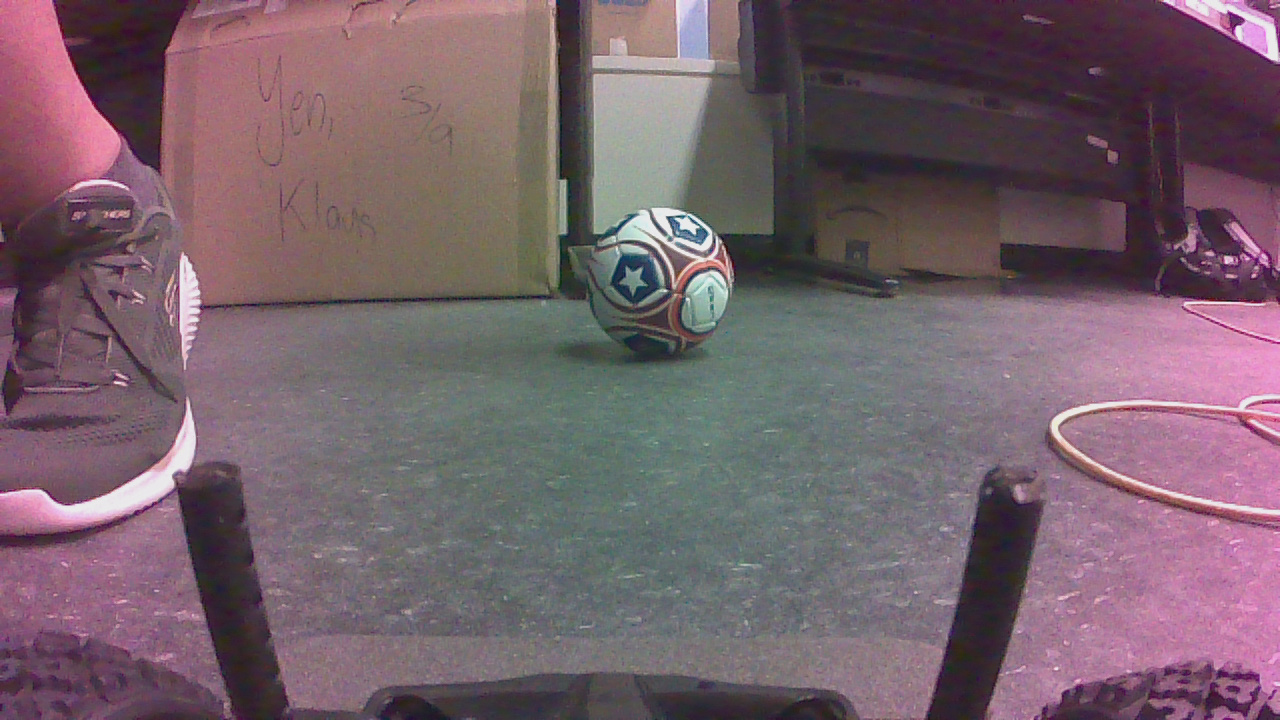ball: (585, 212, 742, 361)
